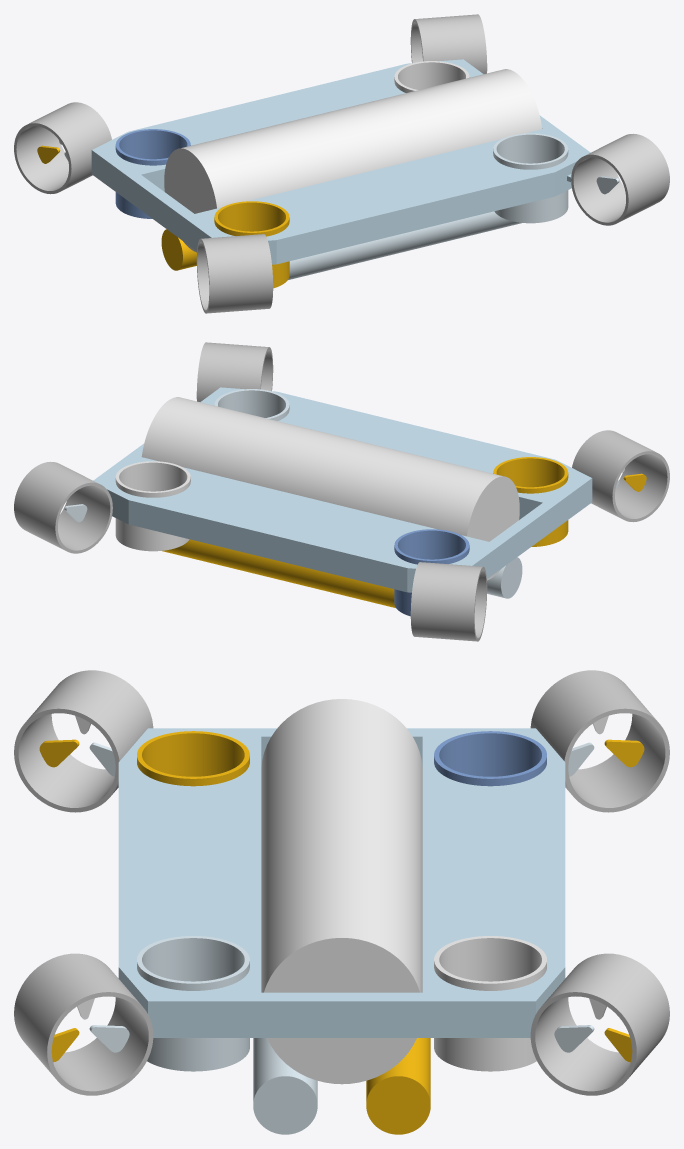
File: bob_rov_3D.glb
3 views of the same model, one above another, from view 1: azimuth 30°, elevation 25°; view 2: azimuth 150°, elevation 25°; view 3: azimuth 270°, elevation 25° (orthographic). The views are drawn at different scales.
Visible parts, largest first — view 1: Part 1, Part 7, Part 2, Part 33, Part 25, Part 8, Part 5, Part 29, Part 6, Part 3, Part 4, Part 9; view 2: Part 1, Part 7, Part 29, Part 25, Part 33, Part 9, Part 4, Part 2, Part 3, Part 6, Part 5, Part 8; view 3: Part 1, Part 7, Part 29, Part 2, Part 25, Part 33, Part 4, Part 5, Part 3, Part 6, Part 8, Part 9 (+4 smaller).
Boxes of the visible parts, box(x1,y1,x2,y2) form: Part 1: box(91, 59, 590, 264); Part 7: box(164, 69, 541, 252); Part 2: box(571, 133, 669, 225); Part 33: box(14, 102, 111, 194); Part 25: box(196, 234, 273, 313); Part 8: box(288, 211, 521, 279); Part 5: box(493, 133, 568, 223); Part 29: box(410, 14, 487, 73); Part 6: box(214, 201, 289, 288); Part 3: box(115, 129, 190, 218); Part 4: box(394, 61, 469, 92); Part 9: box(161, 229, 196, 270); Part 1: box(93, 387, 592, 592); Part 7: box(142, 397, 519, 580); Part 29: box(14, 461, 112, 553); Part 25: box(572, 430, 669, 522); Part 33: box(410, 562, 487, 641); Part 9: box(162, 539, 395, 607); Part 4: box(115, 461, 190, 551); Part 2: box(196, 342, 273, 401); Part 3: box(394, 529, 469, 616); Part 6: box(493, 457, 568, 546); Part 5: box(214, 389, 289, 420); Part 8: box(487, 557, 522, 598); Part 1: box(118, 728, 565, 1037); Part 7: box(261, 699, 422, 1084); Part 29: box(530, 953, 669, 1095); Part 2: box(14, 953, 153, 1095); Part 25: box(14, 670, 153, 812); Part 33: box(530, 670, 669, 812); Part 4: box(434, 936, 546, 1071); Part 5: box(137, 936, 249, 1071); Part 3: box(434, 731, 546, 786); Part 6: box(137, 731, 249, 786); Part 8: box(253, 1038, 317, 1134); Part 9: box(366, 1038, 430, 1134).
Bounding box in the file's own units: 0.4953 × 0.1345 × 0.4061.
